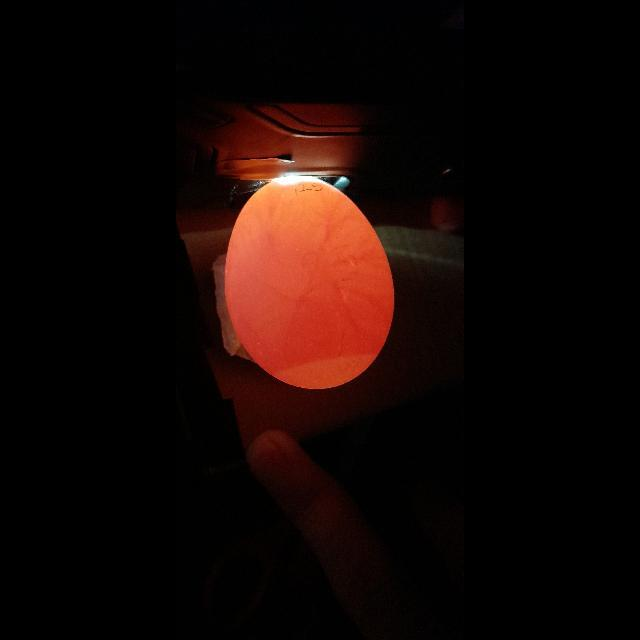Fertile: (218, 178, 400, 396)
